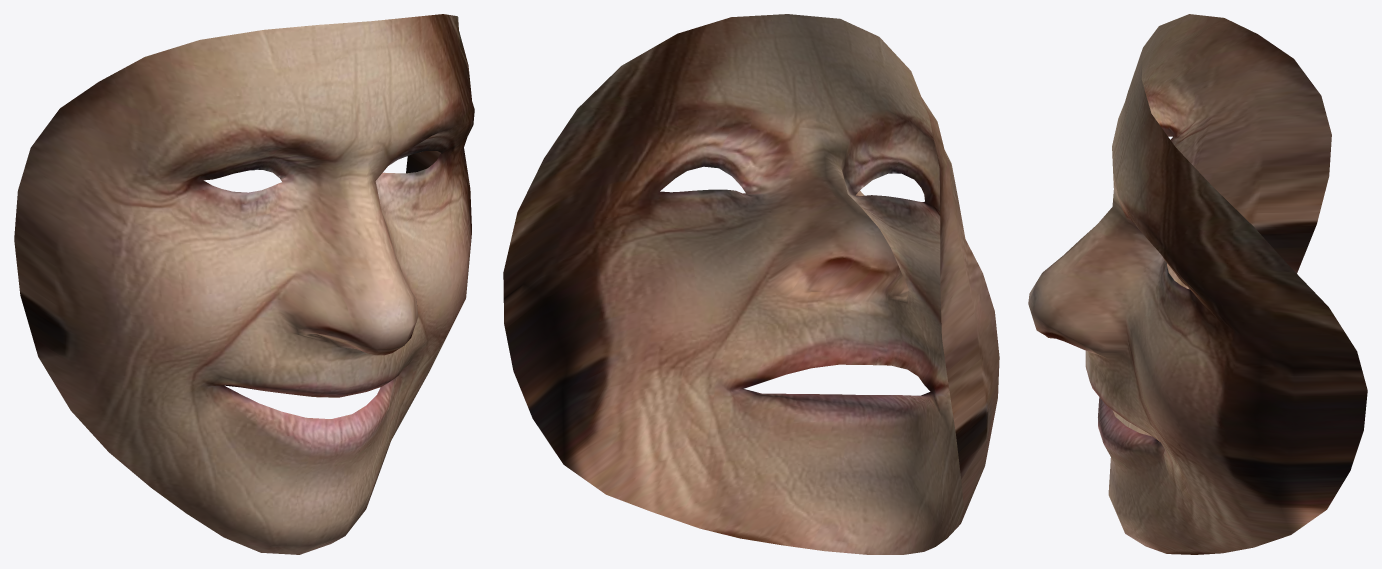
The picture shows the model from 3 angles, left to right: view 1: azimuth 30°, elevation 25°; view 2: azimuth 150°, elevation 25°; view 3: azimuth 270°, elevation 25°; orthographic projection. The views are drawn at different scales.
Visible parts, largest first — view 1: geometry_0; view 2: geometry_0; view 3: geometry_0.
Boxes of the visible parts, x1=… form: geometry_0: x1=14, y1=14, x2=474, y2=554; geometry_0: x1=503, y1=14, x2=999, y2=554; geometry_0: x1=1028, y1=14, x2=1367, y2=554.
Size of the model in its own units: 1.68 by 1.99 by 1.24.
1 material, 1 textured.
